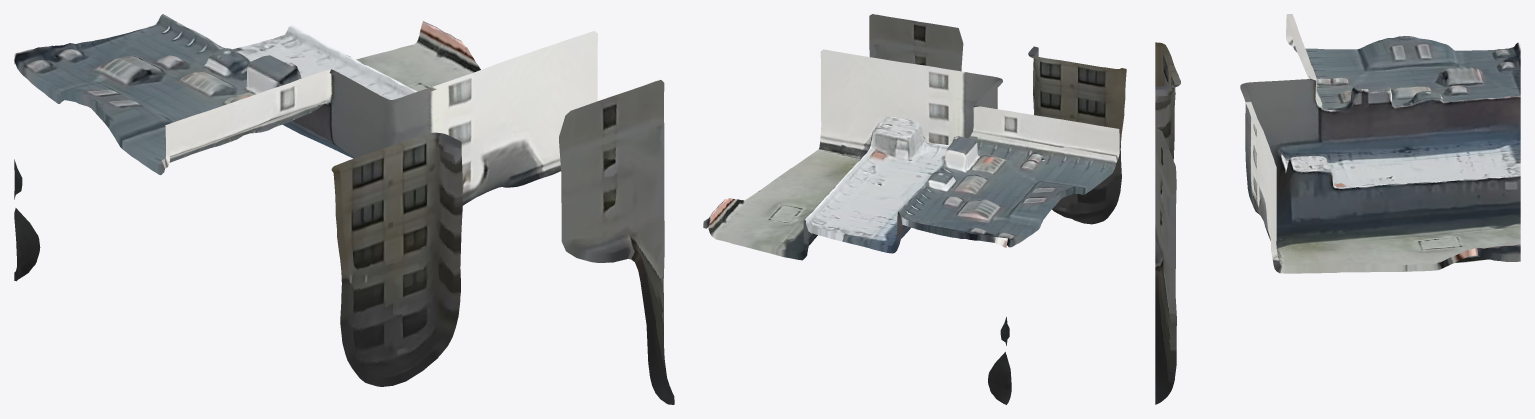
File: z20-167756-405237-h0-yup-uvflip-v3-world.glb
The picture shows the model from 3 angles, left to right: view 1: azimuth 30°, elevation 25°; view 2: azimuth 150°, elevation 25°; view 3: azimuth 270°, elevation 25°; orthographic projection. The views are drawn at different scales.
Bounding box in the file's own units: 30.2 × 21.72 × 30.32.
Materials: 1 (1 with a texture image).
